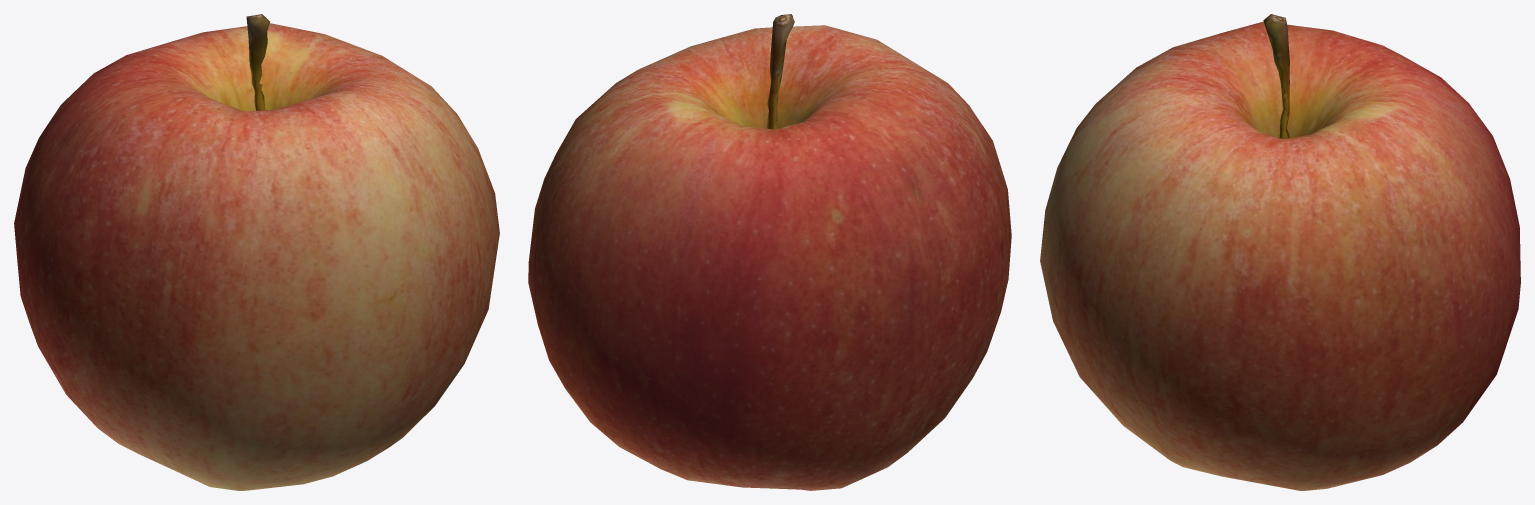
Rendered from apple3.fbx.
3 views of the same model, side by side, from view 1: azimuth 30°, elevation 25°; view 2: azimuth 150°, elevation 25°; view 3: azimuth 270°, elevation 25° (orthographic).
Visible parts, largest first — view 1: apple03_lr; view 2: apple03_lr; view 3: apple03_lr.
Boxes of the visible parts, bbox=[...] form: apple03_lr: bbox=[14, 14, 499, 490]; apple03_lr: bbox=[528, 14, 1011, 490]; apple03_lr: bbox=[1040, 14, 1520, 490].
Size of the model in its own units: 99.51 by 98.45 by 99.34.
